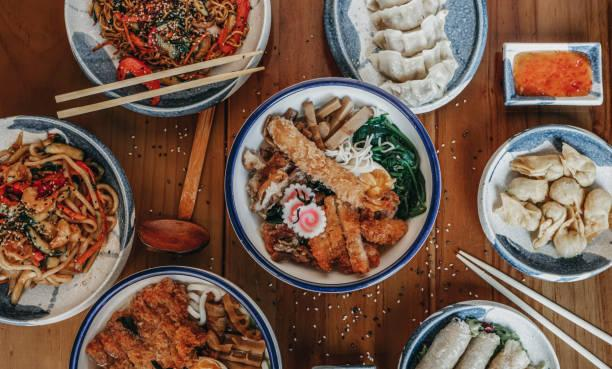Braised Crucian Carp: (224, 77, 439, 293), (2, 112, 136, 323), (65, 0, 263, 120), (70, 265, 281, 369), (477, 124, 610, 280), (324, 0, 486, 114)
